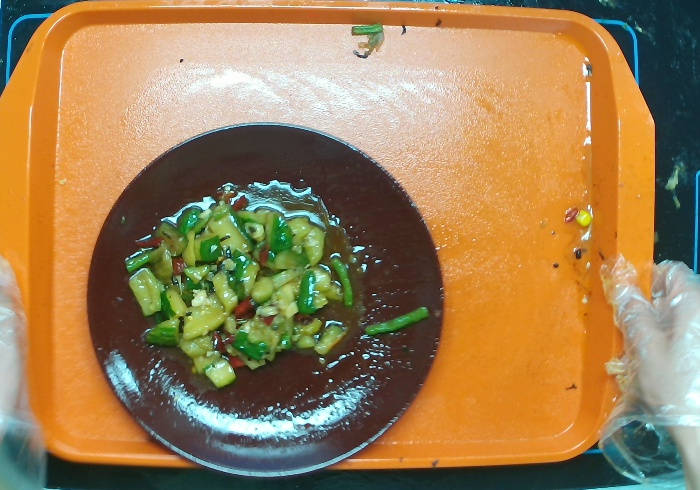HZYJPL-Ka_Fei_Yuan_Pan: (84, 120, 448, 480)
